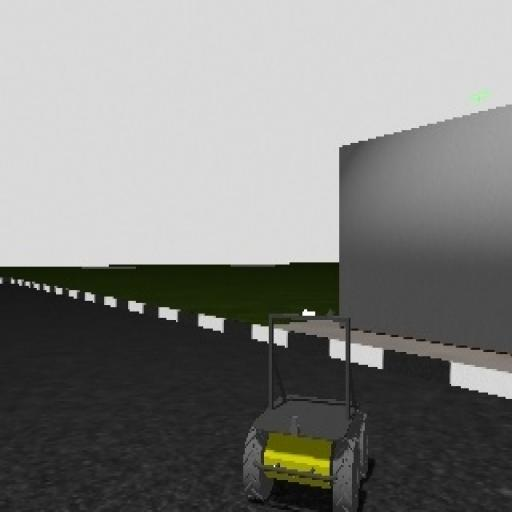huskya200: (249, 303, 367, 512)
